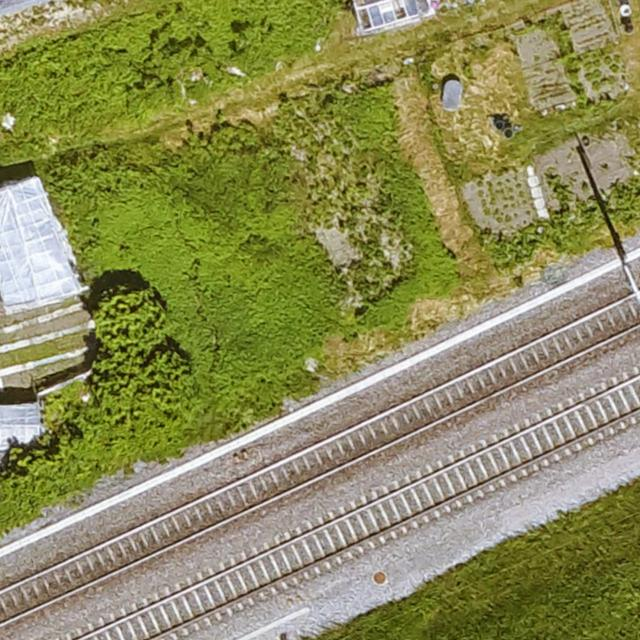tree: (79, 351, 199, 453), (92, 289, 164, 358)
